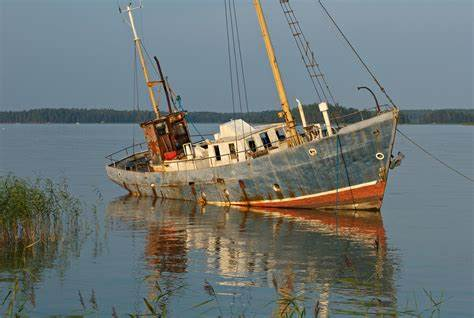rust: (147, 122, 177, 154), (239, 181, 256, 203), (187, 182, 207, 200), (270, 187, 300, 199)
